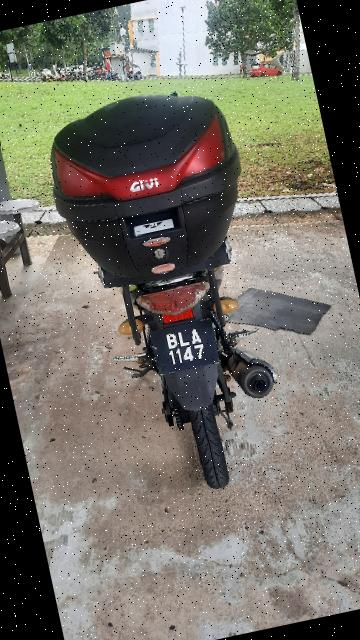License_Plate: (141, 312, 231, 380)
motorcycle: (32, 71, 315, 518)
